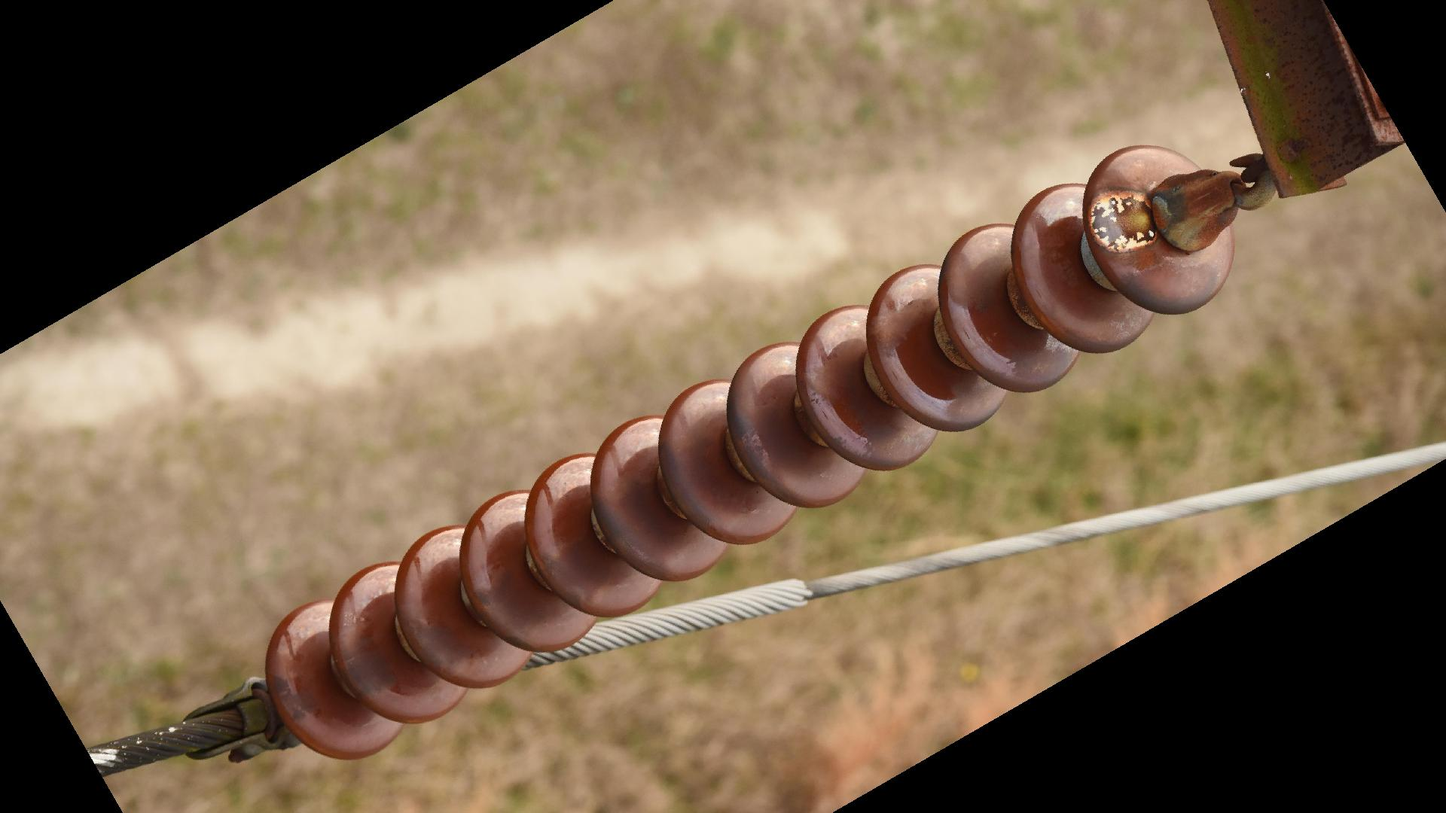insulator: (261, 136, 1243, 766)
insulator_flashover: (1084, 184, 1157, 253)
